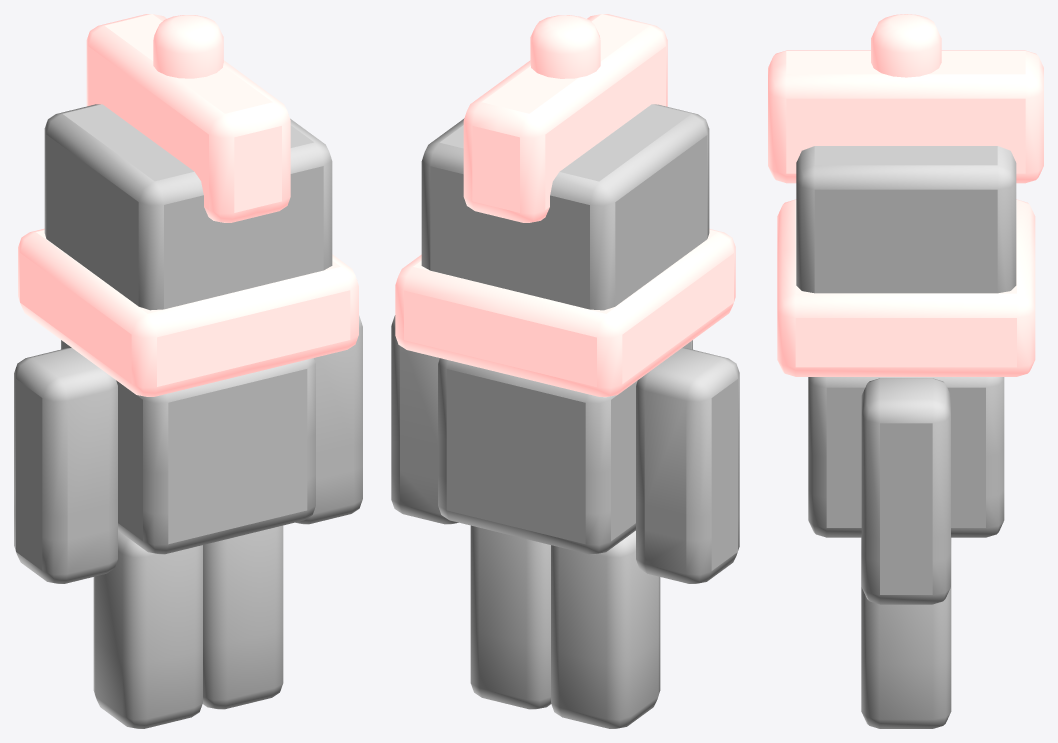
Rendered from Red-Lv2-Viking.fbx.
The picture shows the model from 3 angles, left to right: view 1: azimuth 30°, elevation 25°; view 2: azimuth 150°, elevation 25°; view 3: azimuth 270°, elevation 25°; orthographic projection.
Parts seen in each view (by area): view 1: Red-Lv2-Viking; view 2: Red-Lv2-Viking; view 3: Red-Lv2-Viking.
Boxes of the visible parts, box(x1,y1,x2,y2) form: Red-Lv2-Viking: box(14, 14, 362, 728); Red-Lv2-Viking: box(391, 14, 739, 728); Red-Lv2-Viking: box(768, 14, 1043, 728).
Size of the model in its own units: 0.5961 by 1.22 by 0.4505.
